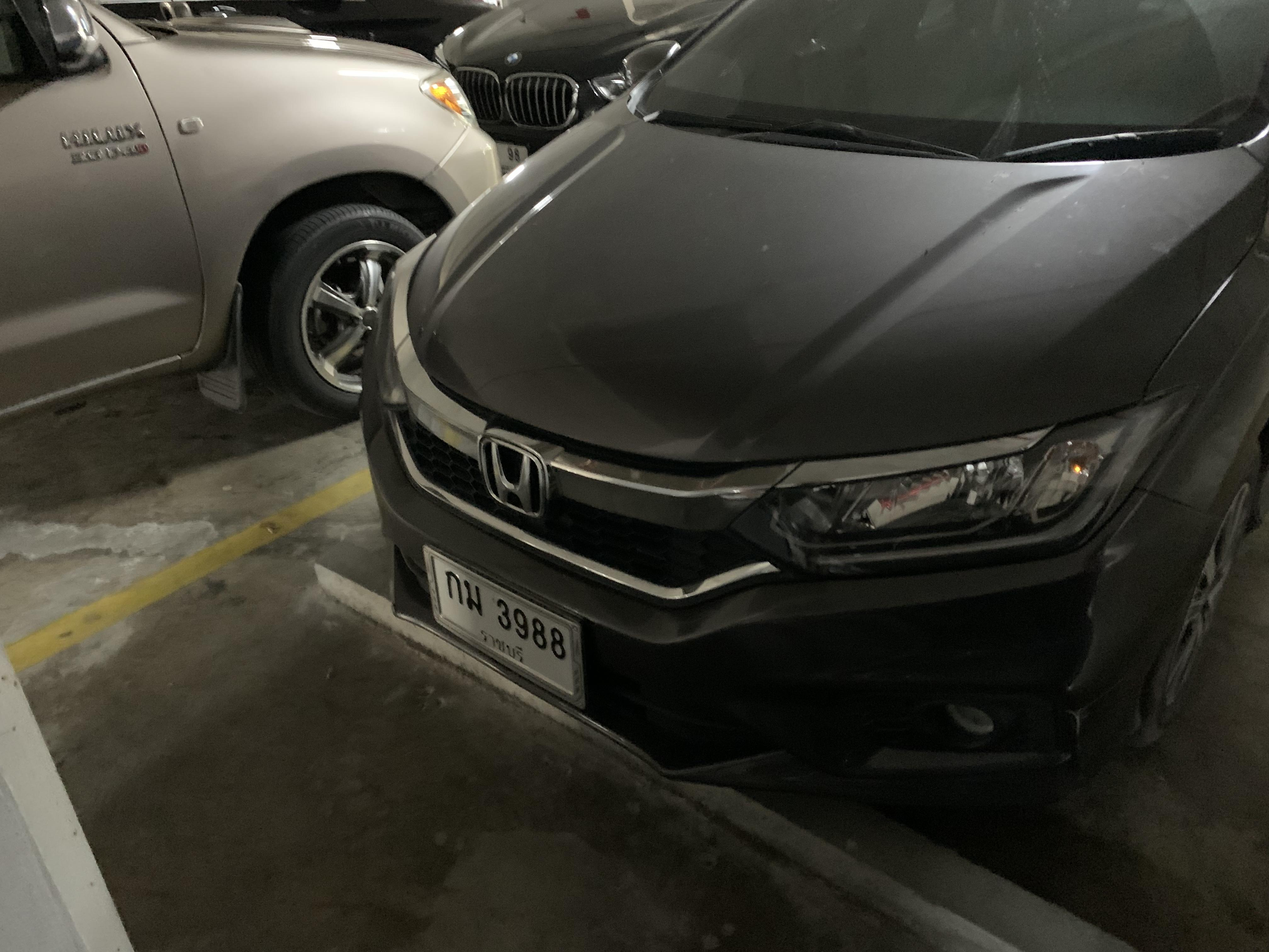license-plate: (419, 543, 587, 711)
